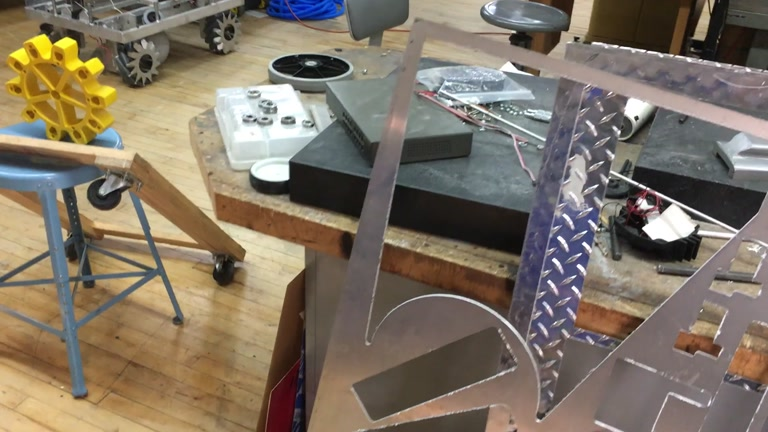gear: (6, 32, 120, 146)
